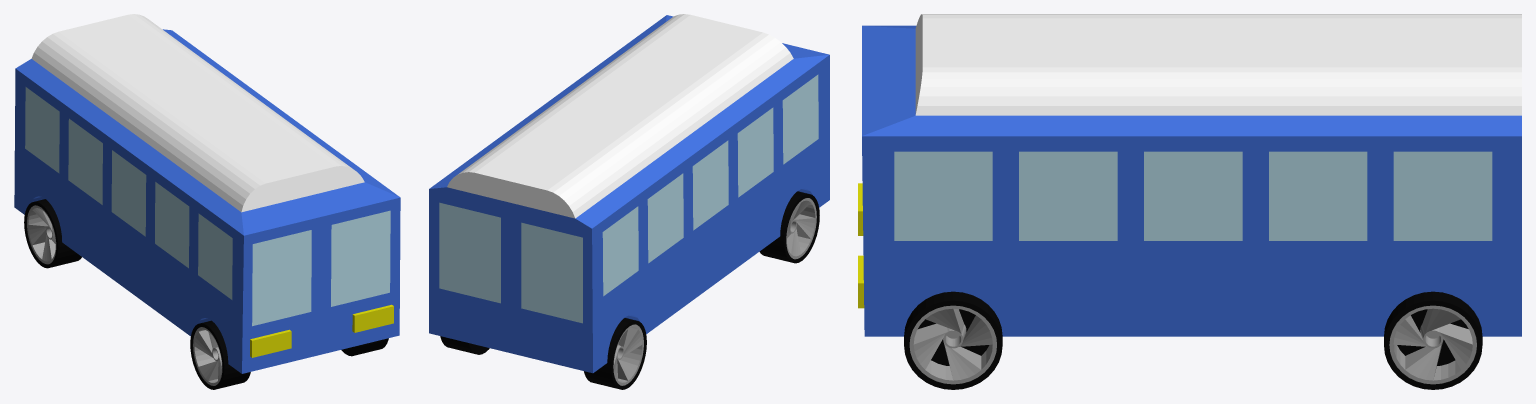
File: bus.glb
3 views of the same model, side by side, from view 1: azimuth 30°, elevation 25°; view 2: azimuth 150°, elevation 25°; view 3: azimuth 270°, elevation 25° (orthographic). The views are drawn at different scales.
Parts seen in each view (by area): view 1: Cube, front_wheel.001, back_wheel.001; view 2: Cube, back_wheel.001, front_wheel.001; view 3: Cube, front_wheel.001, back_wheel.001.
Part boxes in pixels (bbox=[...]): Cube: bbox=[14, 14, 400, 373]; front_wheel.001: bbox=[190, 320, 388, 389]; back_wheel.001: bbox=[24, 199, 81, 268]; Cube: bbox=[429, 14, 829, 373]; back_wheel.001: bbox=[440, 318, 646, 389]; front_wheel.001: bbox=[759, 191, 819, 263]; Cube: bbox=[858, 14, 1521, 336]; front_wheel.001: bbox=[904, 291, 1002, 389]; back_wheel.001: bbox=[1384, 291, 1482, 389].
Size of the model in its own units: 4.2 by 4.85 by 10.1.
